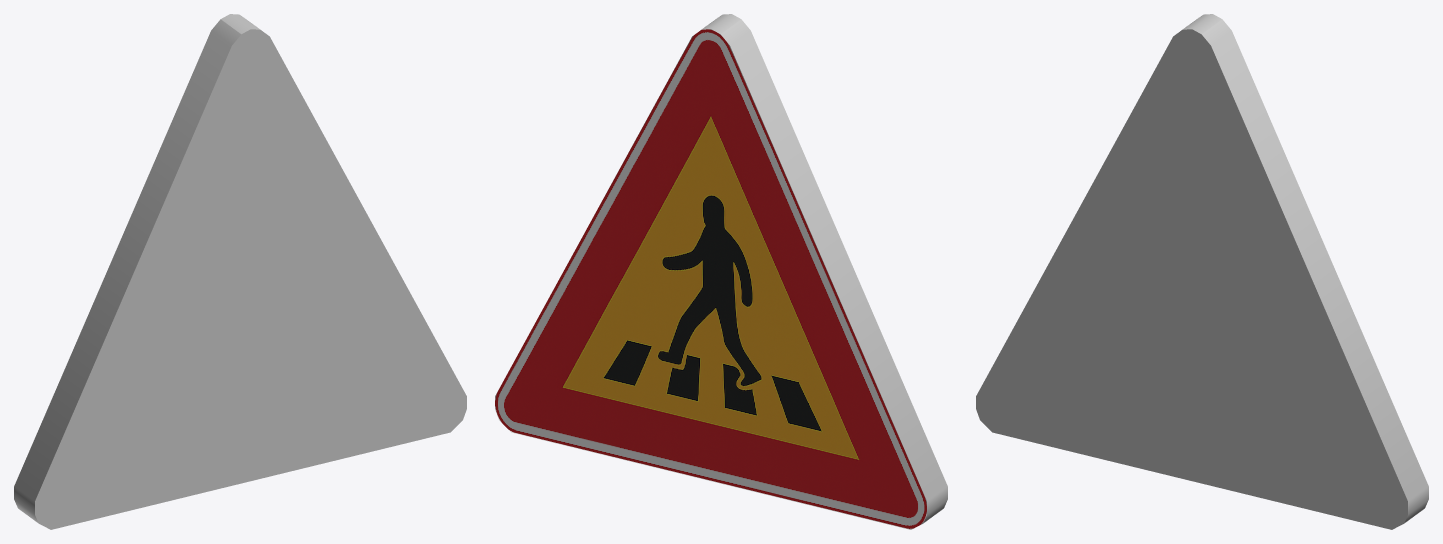
File: CrossManHead.fbx
The picture shows the model from 3 angles, left to right: view 1: azimuth 30°, elevation 25°; view 2: azimuth 150°, elevation 25°; view 3: azimuth 330°, elevation 25°; orthographic projection.
Parts seen in each view (by area): view 1: Plane001; view 2: Plane001; view 3: Plane001.
Part boxes in pixels (x1,y1,x2,y2): Plane001: [14, 14, 466, 529]; Plane001: [495, 14, 947, 529]; Plane001: [976, 14, 1428, 529].
Size of the model in its own units: 30 by 30 by 2.5.
